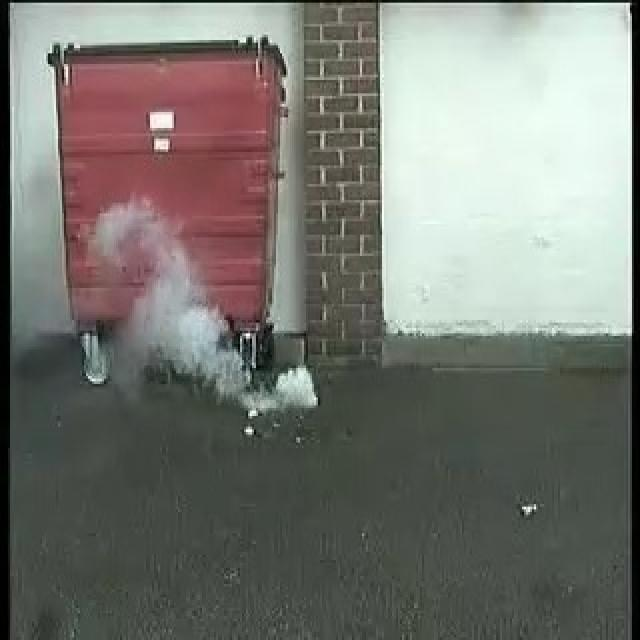Smoke: (91, 205, 319, 412)
